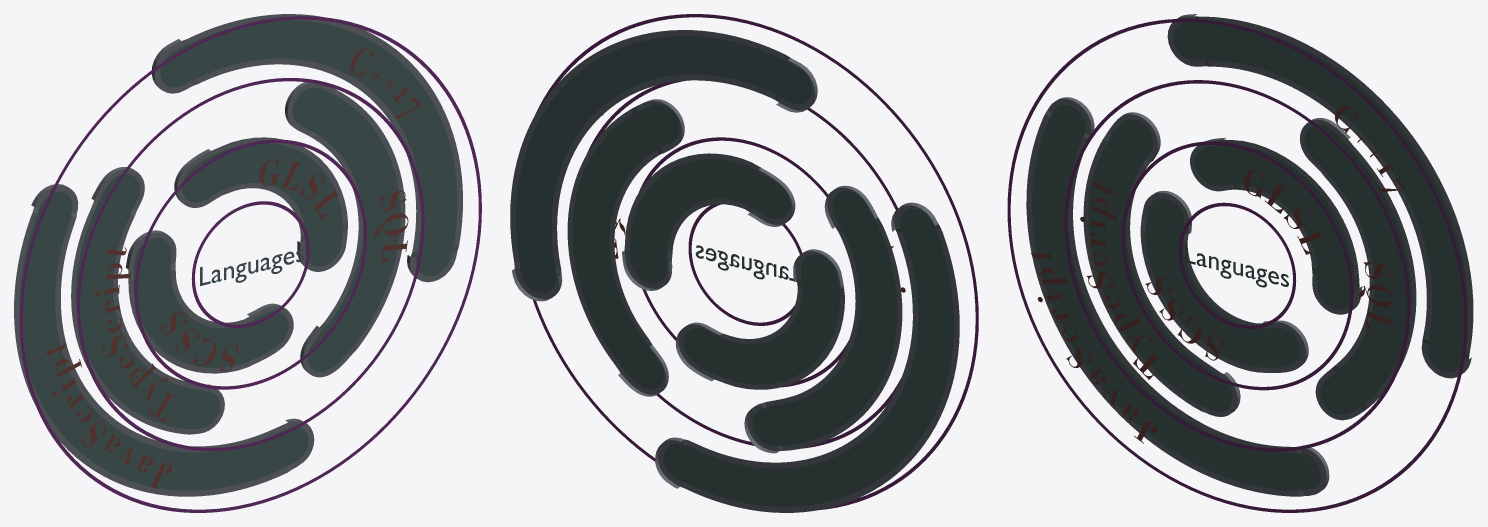
Rendered from round.glb.
The picture shows the model from 3 angles, left to right: view 1: azimuth 30°, elevation 25°; view 2: azimuth 150°, elevation 25°; view 3: azimuth 330°, elevation 25°; orthographic projection.
Parts seen in each view (by area): view 1: javascript bg, cpp bg, sql bg, typescript bg, scss bg, glsl bg, simple_border4, simple_border3, simple_border2, typescript txt, simple_border1, javascript txt (+4 smaller); view 2: javascript bg, cpp bg, typescript bg, sql bg, glsl bg, scss bg, simple_border4, simple_border3, simple_border2, simple_border1, lang txt; view 3: javascript bg, cpp bg, typescript bg, sql bg, scss bg, glsl bg, simple_border4, simple_border3, simple_border2, typescript txt, simple_border1, javascript txt (+4 smaller).
Part boxes in pixels (bbox=[...]): javascript bg: bbox=[14, 184, 314, 496]; cpp bg: bbox=[152, 14, 462, 282]; sql bg: bbox=[285, 82, 405, 377]; typescript bg: bbox=[71, 167, 224, 434]; scss bg: bbox=[125, 230, 293, 373]; glsl bg: bbox=[174, 137, 347, 271]; simple_border4: bbox=[19, 16, 481, 512]; simple_border3: bbox=[77, 78, 424, 451]; simple_border2: bbox=[134, 139, 367, 389]; typescript txt: bbox=[94, 246, 174, 422]; simple_border1: bbox=[191, 201, 309, 327]; javascript txt: bbox=[45, 341, 171, 488]; javascript bg: bbox=[655, 202, 959, 512]; cpp bg: bbox=[510, 30, 817, 301]; typescript bg: bbox=[744, 185, 902, 453]; sql bg: bbox=[567, 99, 684, 396]; glsl bg: bbox=[622, 153, 795, 290]; scss bg: bbox=[675, 249, 844, 389]; simple_border4: bbox=[533, 14, 978, 509]; simple_border3: bbox=[587, 80, 901, 448]; simple_border2: bbox=[639, 137, 848, 387]; simple_border1: bbox=[688, 204, 802, 325]; lang txt: bbox=[695, 245, 796, 281]; javascript bg: bbox=[1026, 97, 1329, 496]; cpp bg: bbox=[1167, 14, 1473, 378]; typescript bg: bbox=[1083, 112, 1240, 416]; sql bg: bbox=[1300, 118, 1416, 420]; scss bg: bbox=[1140, 191, 1308, 372]; glsl bg: bbox=[1190, 137, 1362, 314]; simple_border4: bbox=[1007, 18, 1467, 512]; simple_border3: bbox=[1064, 80, 1410, 451]; simple_border2: bbox=[1121, 141, 1353, 390]; typescript txt: bbox=[1080, 180, 1159, 379]; simple_border1: bbox=[1178, 202, 1296, 328]; javascript txt: bbox=[1030, 250, 1156, 443].
Bounding box in the file's own units: 99.78 × 99.78 × 6.37.
